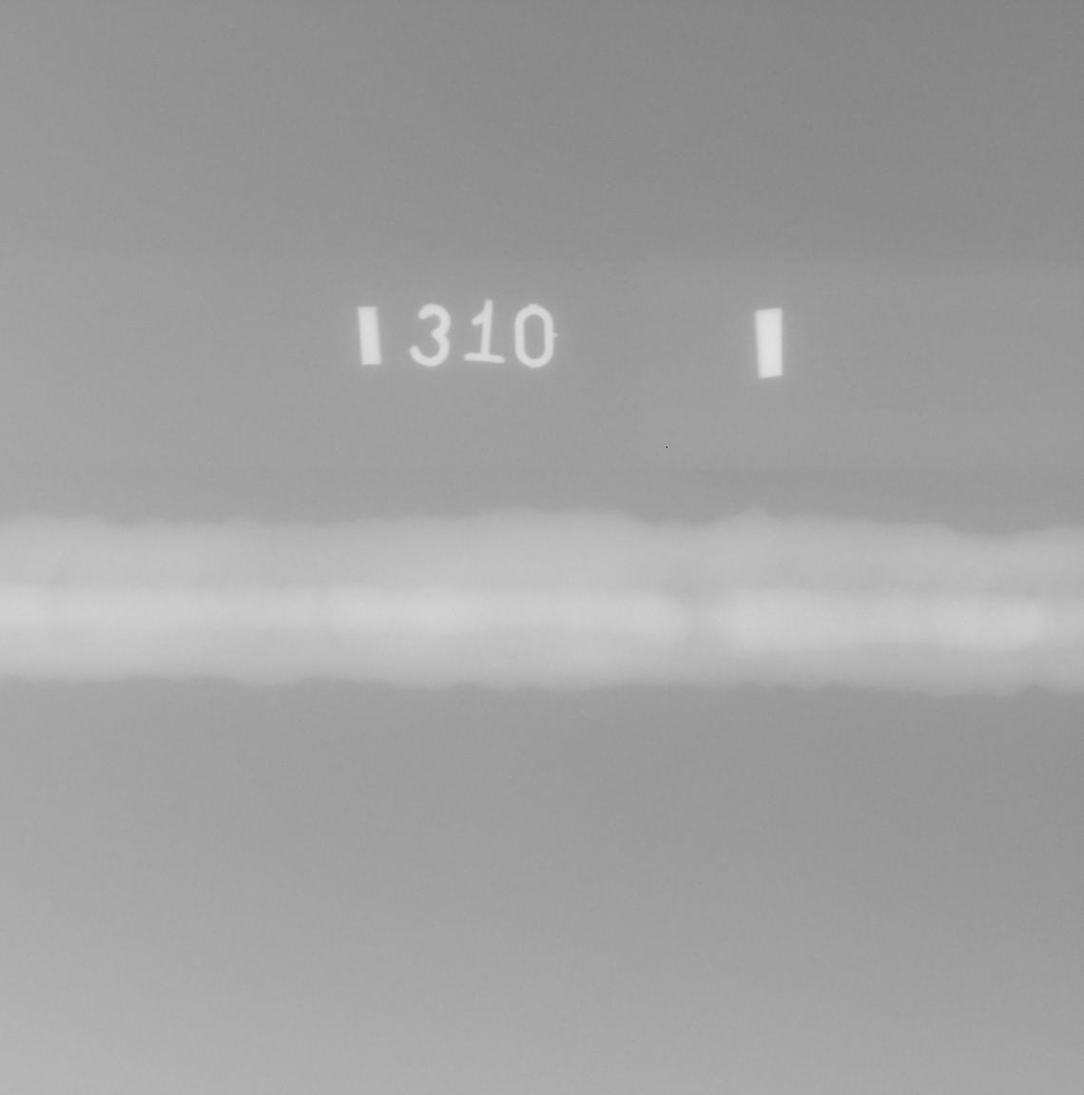Inclusion: (508, 657, 516, 659)
Lack of Fusion: (23, 580, 67, 586)
Pore/Porosity: (800, 608, 807, 615), (36, 574, 39, 576)
